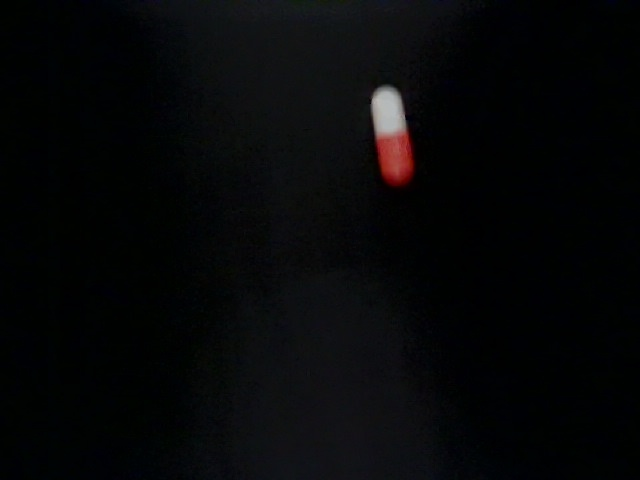YHLJ: (254, 326, 384, 436)
